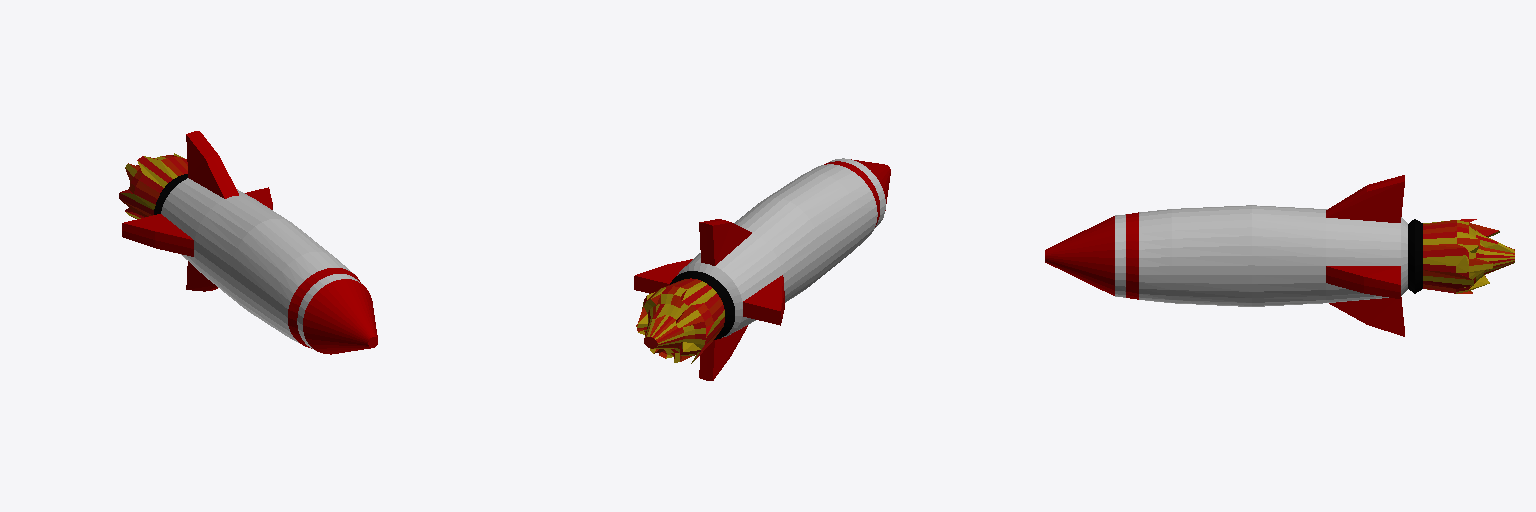
Rendered from rocket.obj.
3 renders of one model, left to right at view 1: azimuth 30°, elevation 25°; view 2: azimuth 150°, elevation 25°; view 3: azimuth 270°, elevation 25°, orthographic.
Parts seen in each view (by area): view 1: Cylinder; view 2: Cylinder; view 3: Cylinder.
Part boxes in pixels (left/top/right/bottom): Cylinder: left=119, top=131, right=377, bottom=354; Cylinder: left=634, top=158, right=890, bottom=380; Cylinder: left=1045, top=175, right=1514, bottom=336.
Size of the model in its own units: 4.21 by 4.27 by 11.59.